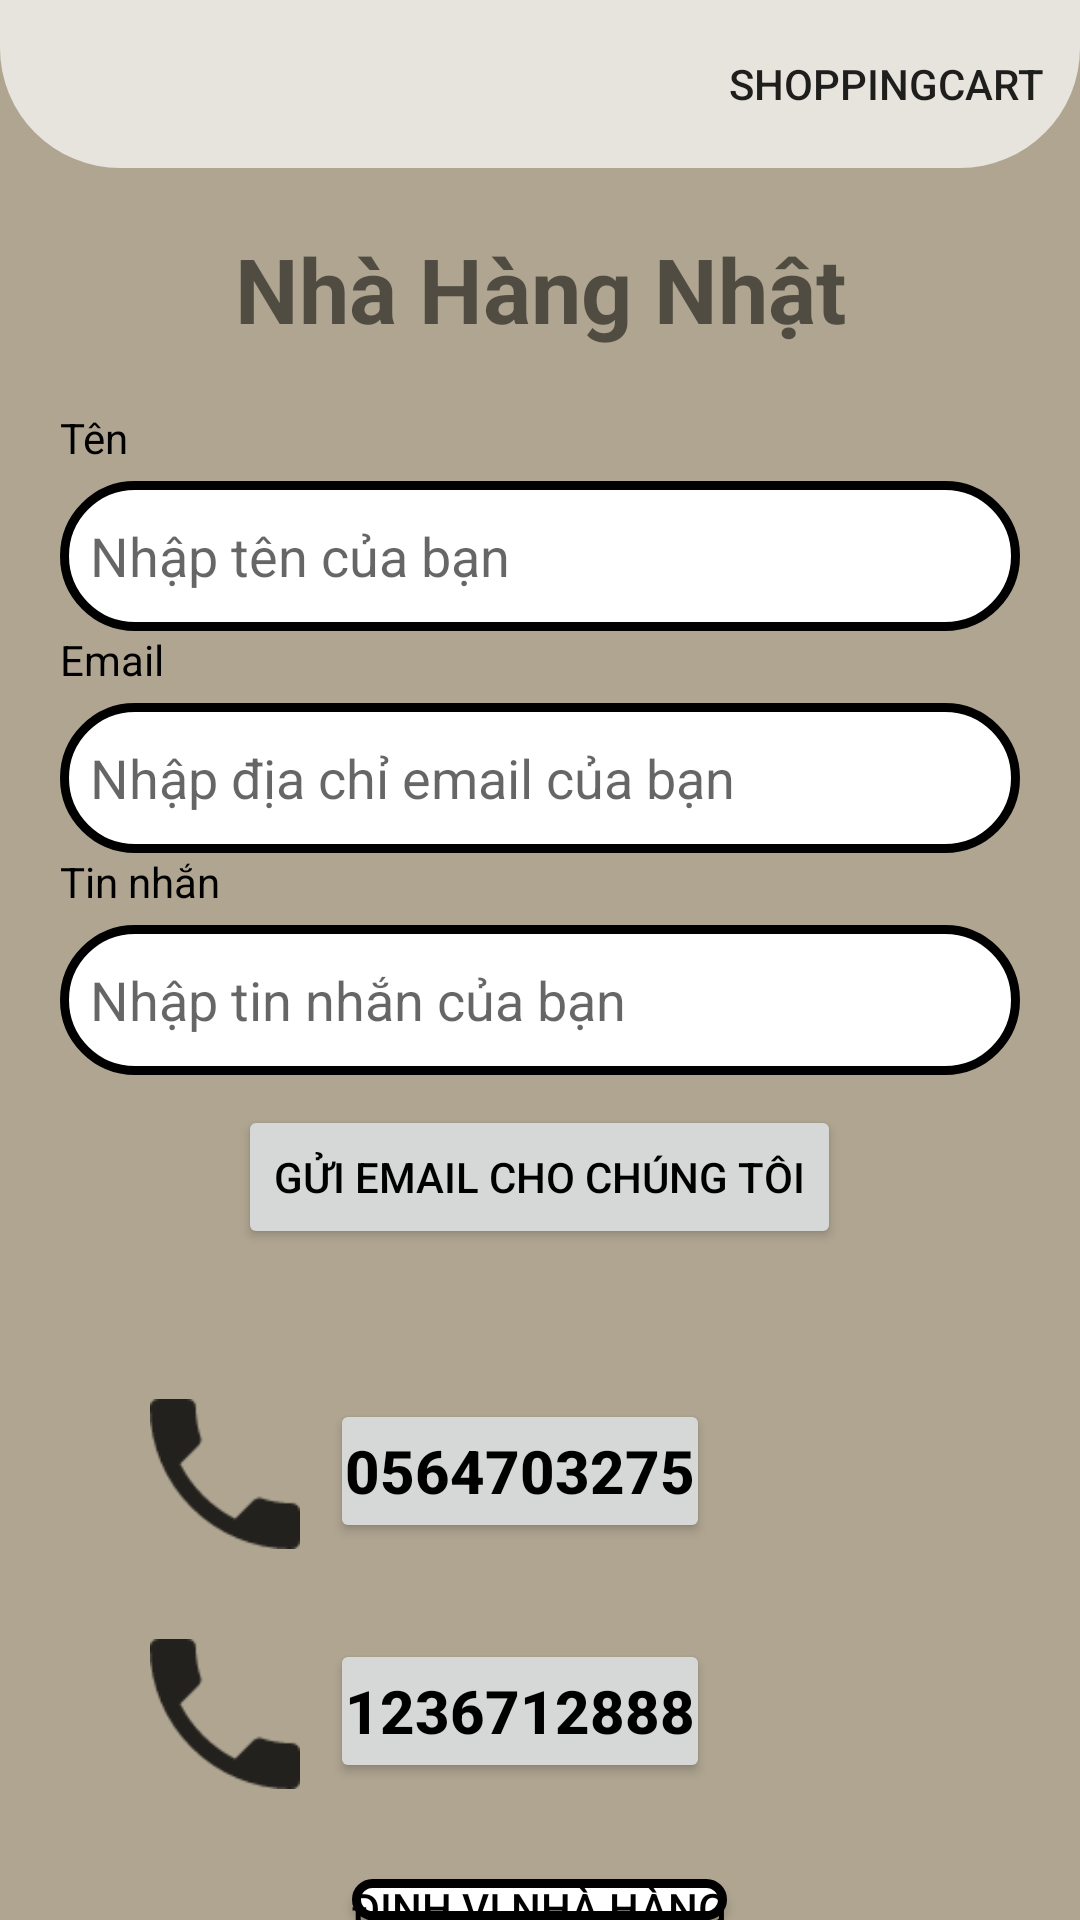

Point at icon controls on the screen. Image size 1080 × 1920, points as [x,y].
phone: [225,1474], [225,1714]
